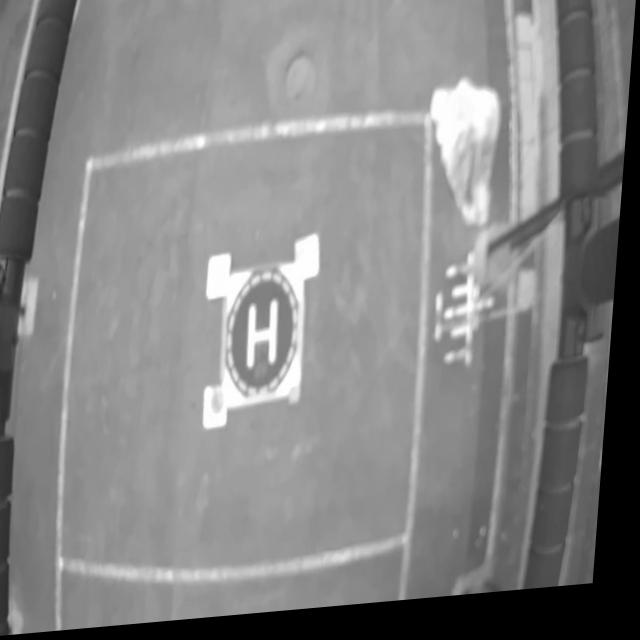Helipad: (253, 306, 283, 374)
